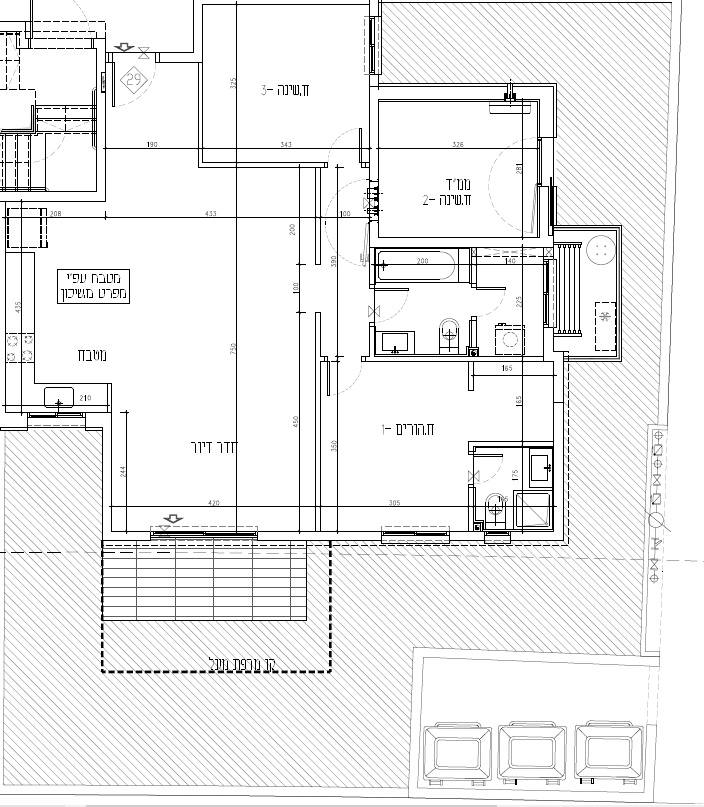window: (144, 524, 262, 546), (377, 526, 453, 551), (537, 253, 558, 330), (364, 13, 383, 77), (477, 527, 517, 550)
